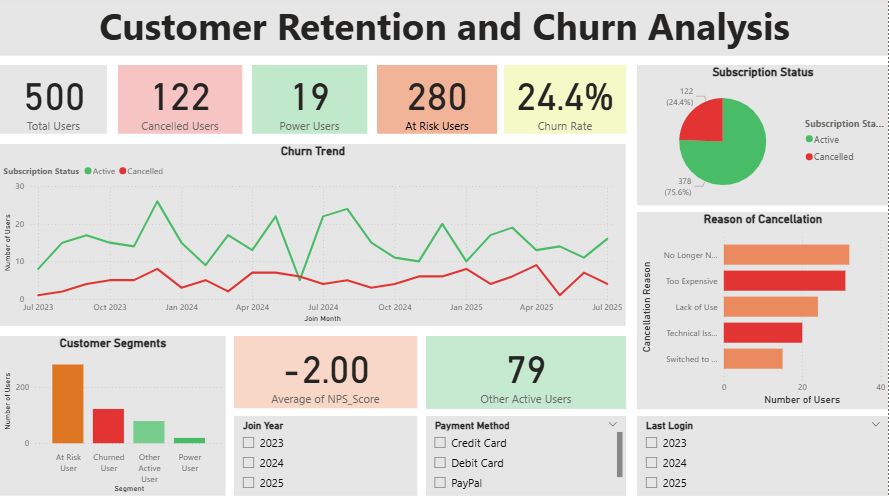

This screenshot's page, from the dashboard's own definition file:
{"tool":"powerbi","page":{"name":"Page 1","canvas":[1280,720],"ordinal":0},"visuals":[{"type":"card","title":"Total Users","fields":{"Values":["Count(final_subscriptions_data.User_ID)"]},"box":[0,99.4,154.1,99.4],"z":0},{"type":"lineChart","title":"Churn Trend","fields":{"Series":["final_subscriptions_data.Subscription_Status"],"Y":["CountNonNull(final_subscriptions_data.User_ID)"],"Category":["final_subscriptions_data.Join_Month"]},"box":[0,213.1,901.4,262.1],"z":1000},{"type":"pieChart","title":"Subscription Status","fields":{"Category":["final_subscriptions_data.Subscription_Status"],"Y":["CountNonNull(final_subscriptions_data.User_ID)"]},"box":[917.3,99.4,362.9,201.6],"z":2000},{"type":"clusteredColumnChart","title":"Customer Segments","fields":{"Category":["final_subscriptions_data.Segment"],"Y":["CountNonNull(final_subscriptions_data.User_ID)"]},"box":[0,489.6,325.4,230.4],"z":3000},{"type":"barChart","title":"Reason of Cancellation","fields":{"Category":["final_subscriptions_data.Cancellation_Reason"],"Y":["CountNonNull(final_subscriptions_data.User_ID)"]},"box":[917.3,311,362.9,283.7],"z":4000},{"type":"slicer","title":"Join Year","fields":{"Values":["final_subscriptions_data.Join_Month.Variation.Date Hierarchy.Year"]},"box":[337,604.8,263.5,115.2],"z":5000},{"type":"slicer","fields":{"Values":["final_subscriptions_data.Payment_Method"]},"box":[613.4,604.8,288,115.2],"z":6000},{"type":"slicer","fields":{"Values":["final_subscriptions_data.Last_Login.Variation.Date Hierarchy.Year"]},"box":[917.3,604.8,362.9,115.2],"z":7000},{"type":"card","fields":{"Values":["CountNonNull(final_subscriptions_data.Churned)"]},"box":[169.9,99.4,178.6,99.4],"z":8000},{"type":"card","fields":{"Values":["CountNonNull(final_subscriptions_data.Segment)"]},"box":[362.9,99.4,165.6,99.4],"z":9000},{"type":"card","fields":{"Values":["CountNonNull(final_subscriptions_data.Segment)"]},"box":[542.9,99.4,172.8,99.4],"z":10000},{"type":"card","fields":{"Values":["Avg(final_subscriptions_data.Churned)"]},"box":[725.8,99.4,175.7,99.4],"z":11000},{"type":"textbox","box":[0,0,1280,85.7],"z":12000},{"type":"card","fields":{"Values":["Avg(final_subscriptions_data.NPS_Score)"]},"box":[337,489.6,263.5,103.7],"z":13000},{"type":"card","fields":{"Values":["CountNonNull(final_subscriptions_data.Segment)"]},"box":[613.4,489.6,288,105.1],"z":14000}]}

Visuals, with their boxes in screenshot pixels (x1, y1, x2, y2), scaled from the page's 1280x720 canvas onto the 889x496 screenshot:
"Total Users" card: 0,68,107,137
"Churn Trend" lineChart: 0,147,626,327
"Subscription Status" pieChart: 637,68,888,207
"Customer Segments" clusteredColumnChart: 0,337,226,495
"Reason of Cancellation" barChart: 637,214,888,410
"Join Year" slicer: 234,417,417,495
slicer - final_subscriptions_data.Payment_Method: 426,417,626,495
slicer - final_subscriptions_data.Last_Login.Variation.Date Hierarchy.Year: 637,417,888,495
card - CountNonNull(final_subscriptions_data.Churned): 118,68,242,137
card - CountNonNull(final_subscriptions_data.Segment): 252,68,367,137
card - CountNonNull(final_subscriptions_data.Segment): 377,68,497,137
card - Avg(final_subscriptions_data.Churned): 504,68,626,137
textbox: 0,0,888,59
card - Avg(final_subscriptions_data.NPS_Score): 234,337,417,409
card - CountNonNull(final_subscriptions_data.Segment): 426,337,626,410
